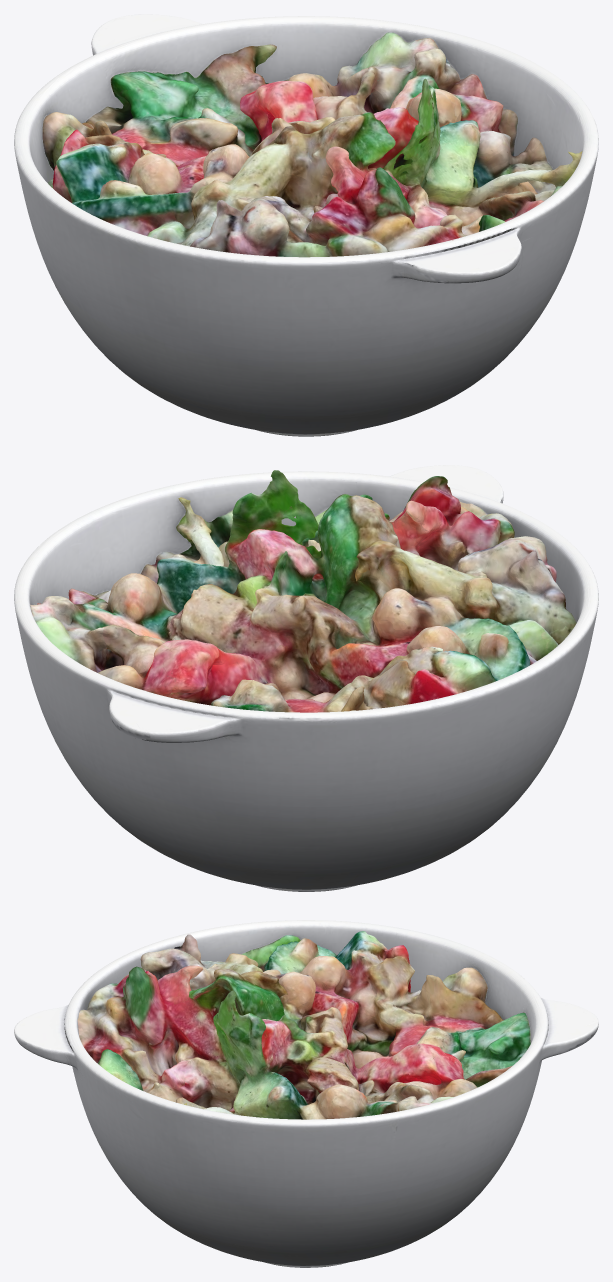
The model's file is salad-illustration.glb.
3 renders of one model, top to bottom at view 1: azimuth 30°, elevation 25°; view 2: azimuth 150°, elevation 25°; view 3: azimuth 270°, elevation 25°, orthographic. The views are drawn at different scales.
Parts seen in each view (by area): view 1: Illustrative tabletop scale; view 2: Illustrative tabletop scale; view 3: Illustrative tabletop scale.
Part boxes in pixels (bbox=[...]): Illustrative tabletop scale: bbox=[14, 14, 598, 436]; Illustrative tabletop scale: bbox=[14, 465, 598, 891]; Illustrative tabletop scale: bbox=[14, 920, 598, 1267].
Size of the model in its own units: 0.1985 by 0.1248 by 0.24.
2 materials, 2 textured.
